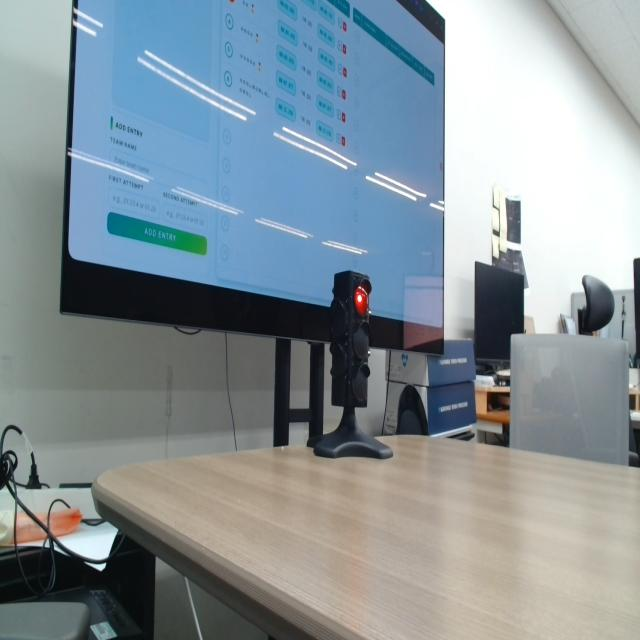red_light: (354, 286, 369, 317)
